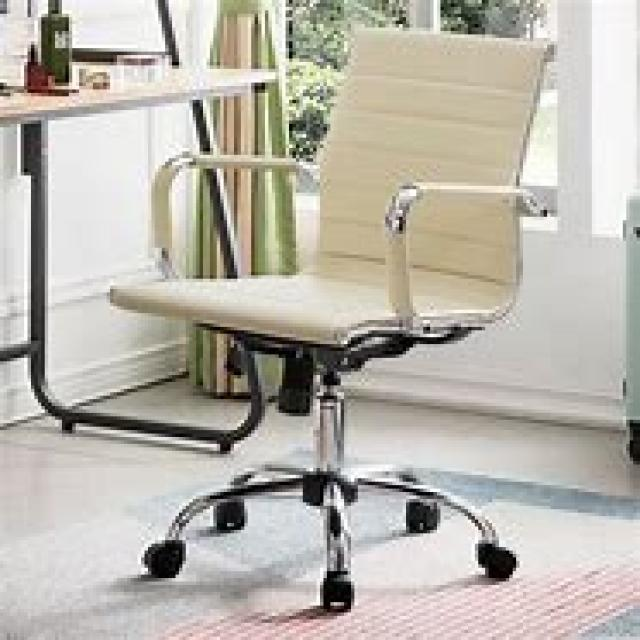chair: (107, 20, 554, 612)
